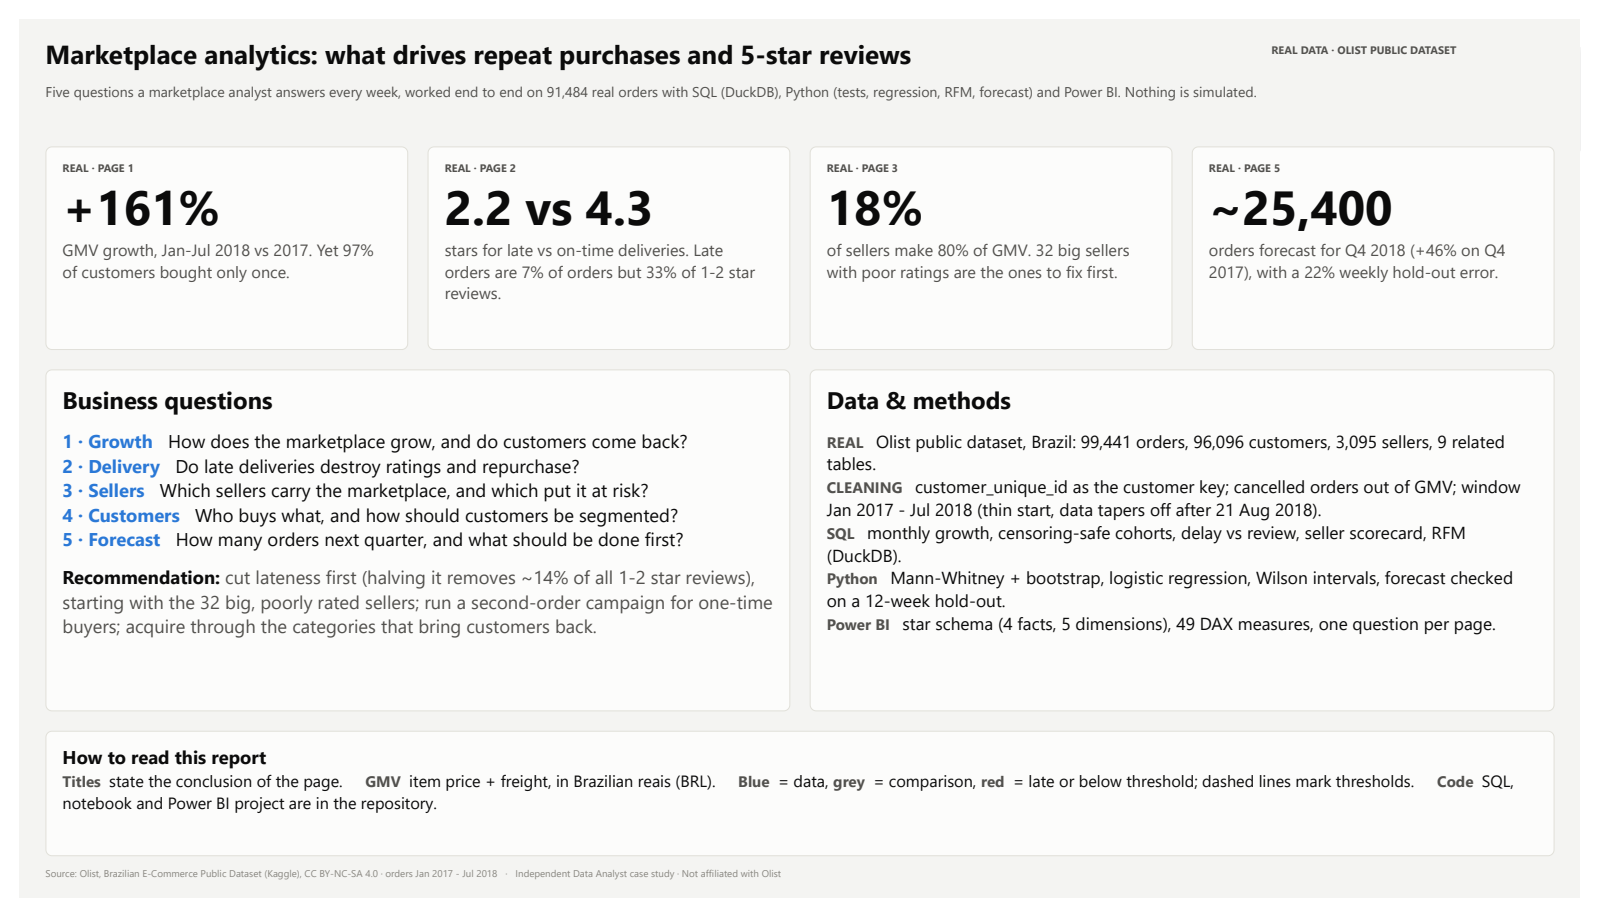

The page's visual inventory and layout, read from the dashboard file:
{"tool":"powerbi","page":{"name":"Overview","canvas":[1920,1080],"ordinal":0},"visuals":[{"type":"textbox","box":[32,20,1500,56],"z":1000},{"type":"textbox","box":[1540,28,348,40],"z":2000},{"type":"textbox","box":[32,76,1856,64],"z":3000},{"type":"textbox","box":[32,156,446,250],"z":4000},{"type":"textbox","box":[502,156,446,250],"z":5000},{"type":"textbox","box":[972,156,446,250],"z":6000},{"type":"textbox","box":[1442,156,446,250],"z":7000},{"type":"textbox","box":[32,430,916,420],"z":8000},{"type":"textbox","box":[972,430,916,420],"z":9000},{"type":"textbox","box":[32,874,1856,154],"z":10000},{"type":"textbox","box":[32,1040,1856,32],"z":11000}]}

Visuals, with their boxes in screenshot pixels (x1, y1, x2, y2), scaled from the page's 1920x1080 canvas onto the 1600x918 screenshot:
textbox: (left=27, top=17, right=1277, bottom=65)
textbox: (left=1283, top=24, right=1573, bottom=58)
textbox: (left=27, top=65, right=1573, bottom=119)
textbox: (left=27, top=133, right=398, bottom=345)
textbox: (left=418, top=133, right=790, bottom=345)
textbox: (left=810, top=133, right=1182, bottom=345)
textbox: (left=1202, top=133, right=1573, bottom=345)
textbox: (left=27, top=366, right=790, bottom=722)
textbox: (left=810, top=366, right=1573, bottom=722)
textbox: (left=27, top=743, right=1573, bottom=874)
textbox: (left=27, top=884, right=1573, bottom=911)
